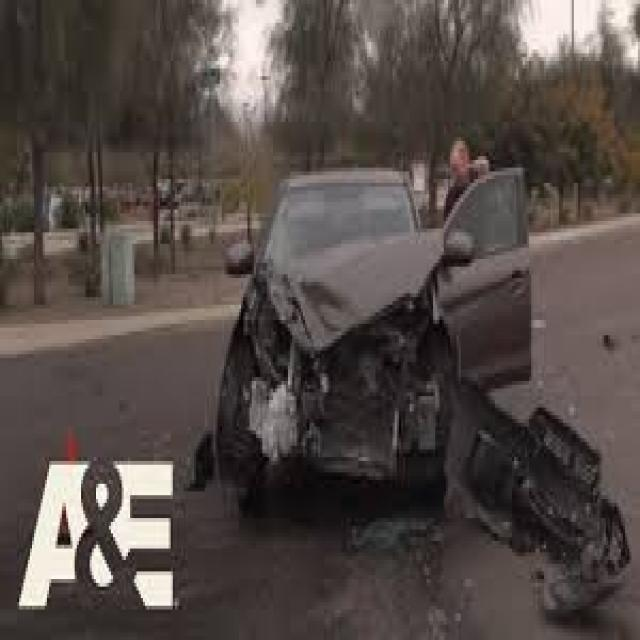accident: (195, 160, 475, 534)
